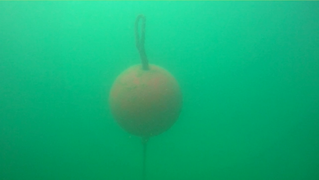buoy: (107, 64, 184, 137)
